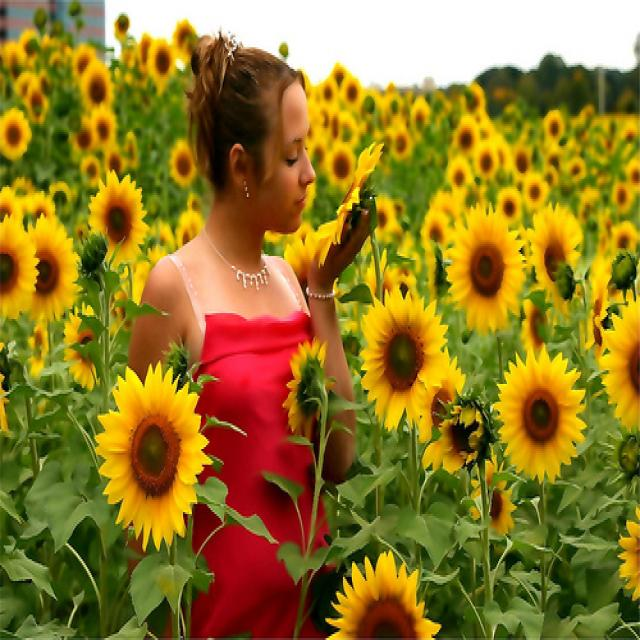sunflower: (86, 356, 214, 560), (488, 337, 588, 498), (434, 199, 529, 337), (318, 547, 454, 640), (357, 288, 441, 436), (87, 164, 152, 282), (526, 191, 585, 313), (24, 215, 84, 321), (320, 142, 365, 195), (74, 61, 115, 116), (1, 106, 34, 168), (142, 34, 177, 90), (170, 142, 200, 187), (472, 138, 502, 182), (539, 106, 566, 146)
